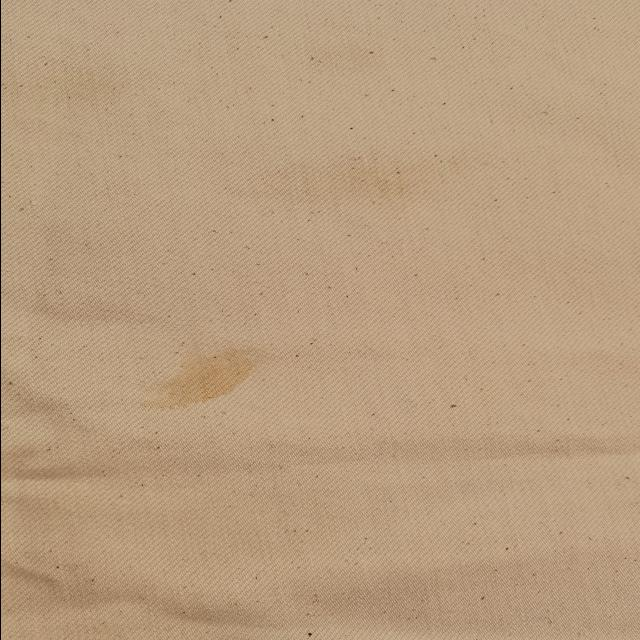taaaches: (148, 347, 288, 409)
